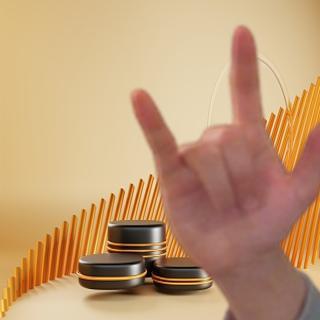ILY: (123, 21, 320, 276)
